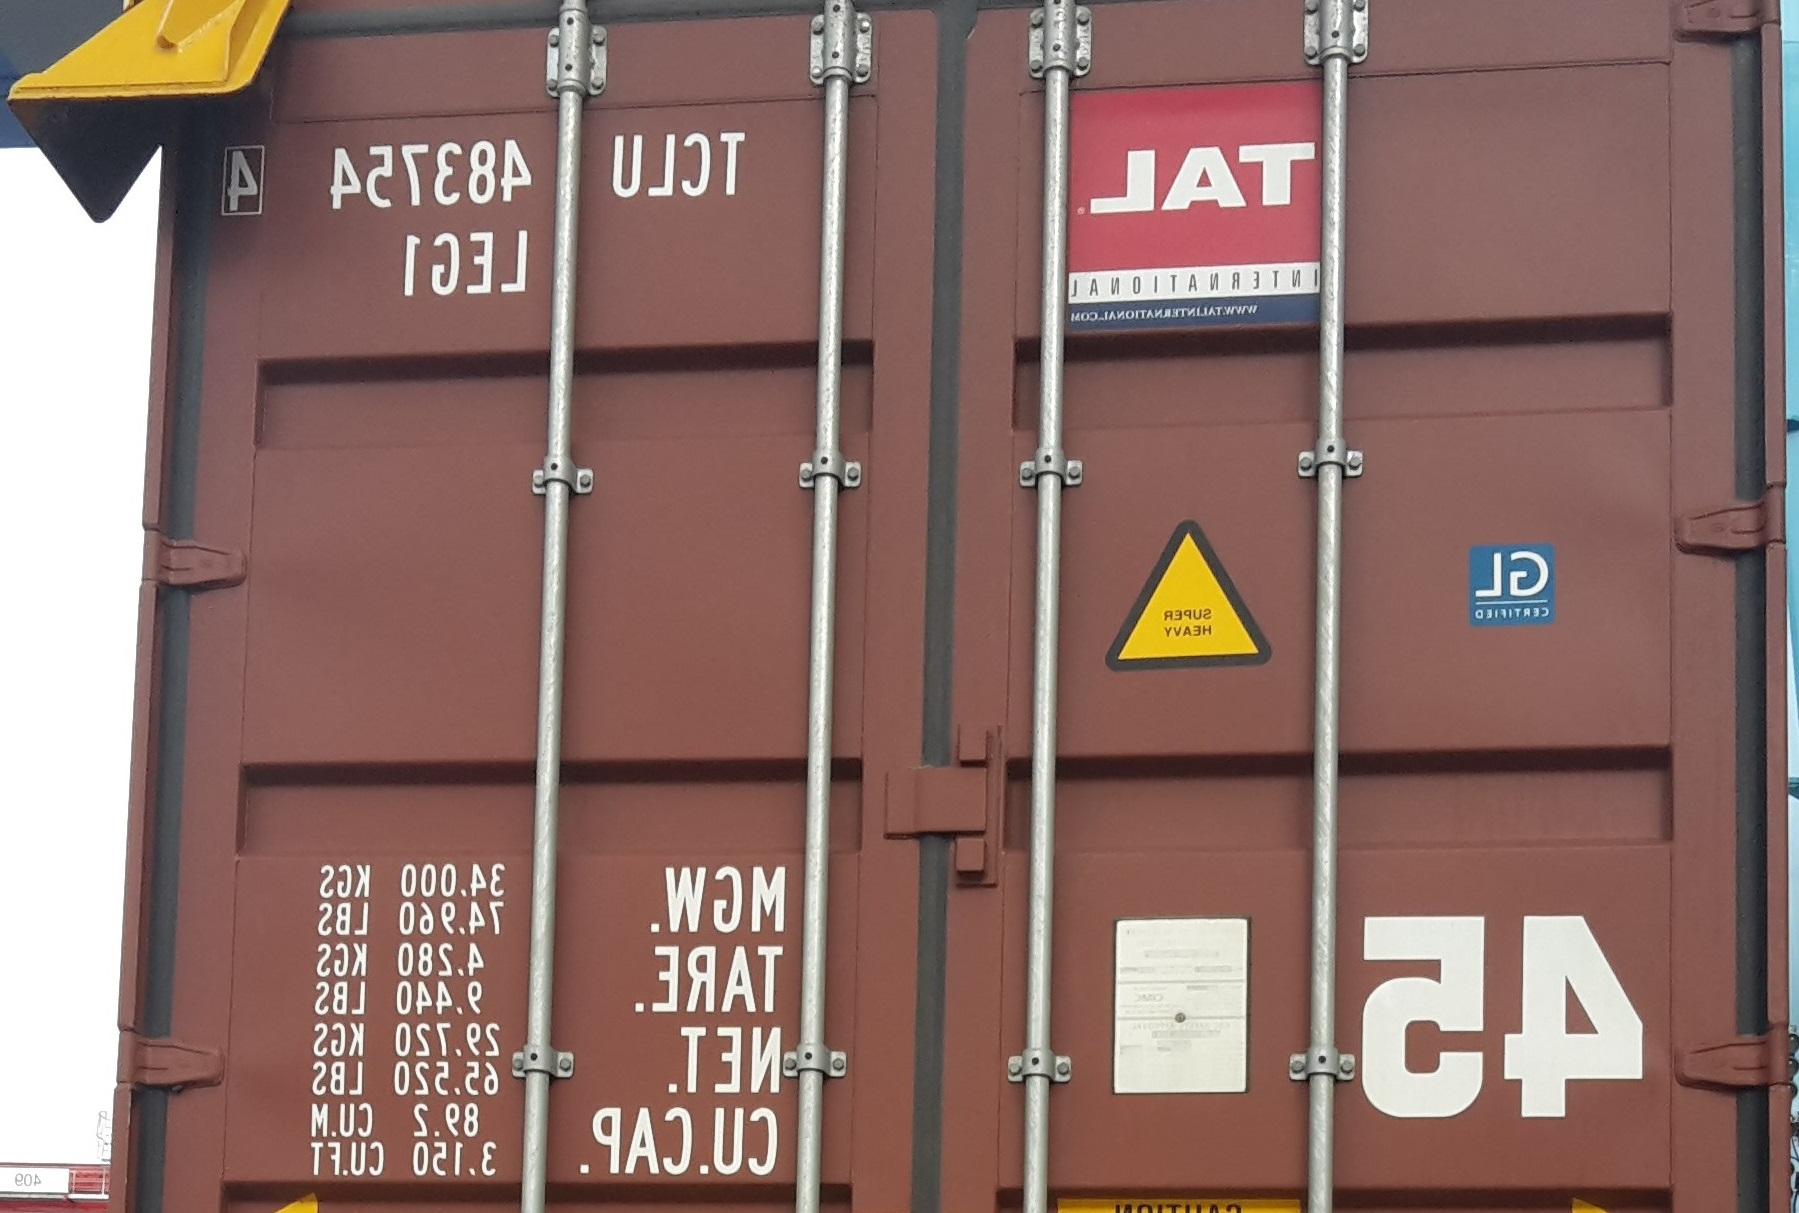container_door: (149, 14, 1785, 1213)
